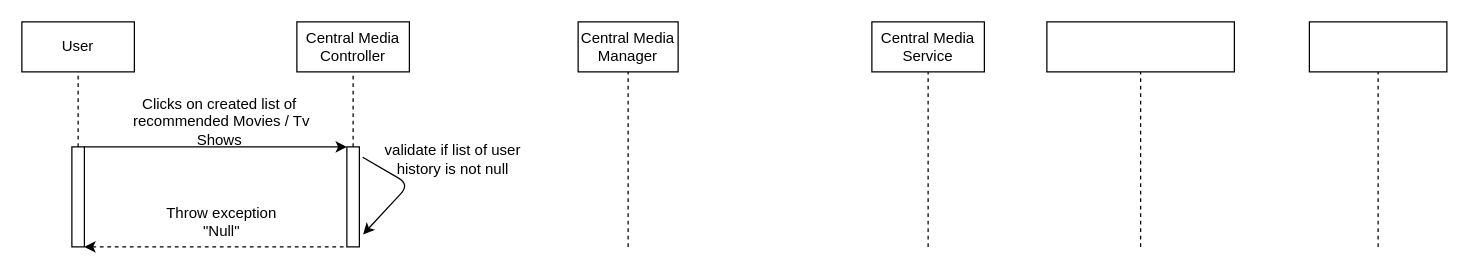
Some shapes in this 1469 by 279 pixel diagram are drawn without their labels. The shapes that lost their labels are listed below. From the top down, each one's centre as x and y in pixels, then its label:
point 1140,46: SQL Data Access Object
point 1377,46: SQL Server
